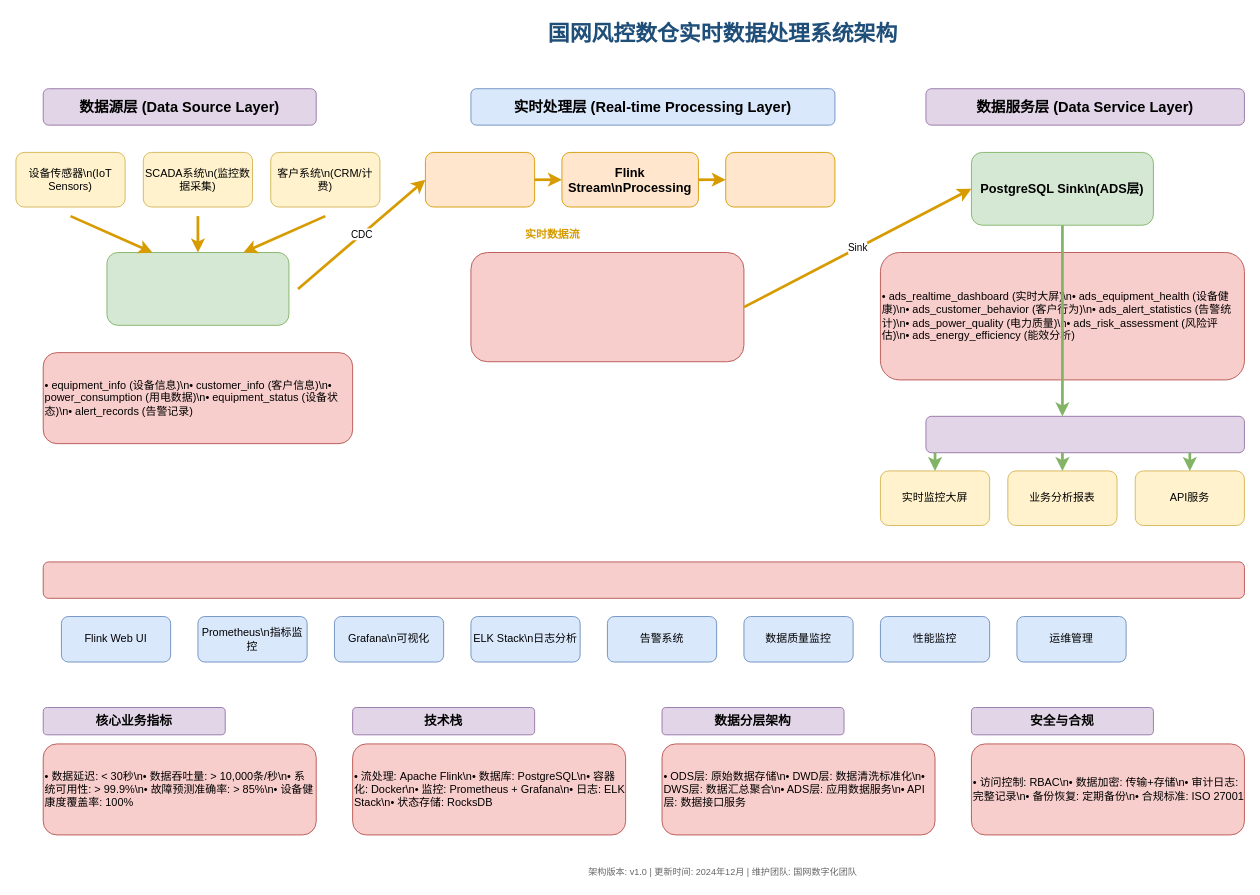
This 1260x895 diagram has some shape labels left out. The shapes that lost their labels are listed below. From the top down, each one's box as (x1, y1, x2, y2) in pixels, then its label:
(425, 152, 535, 207): Flink CDC\n(变更数据捕获)
(725, 152, 835, 207): 状态管理\n(RocksDB)
(106, 252, 289, 325): PostgreSQL Source\n(ODS层)
(470, 252, 744, 362): 数据处理逻辑:\n• 数据清洗与标准化\n• 业务规则应用\n• 实时聚合计算\n• 窗口函数处理\n• 维度表关联
(925, 415, 1244, 453): 应用层 (Application Layer)
(42, 561, 1244, 598): 监控运维层 (Operations Layer)
